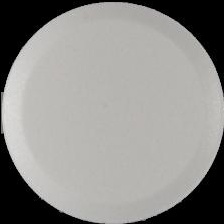51285-697: (0, 0, 224, 224)
